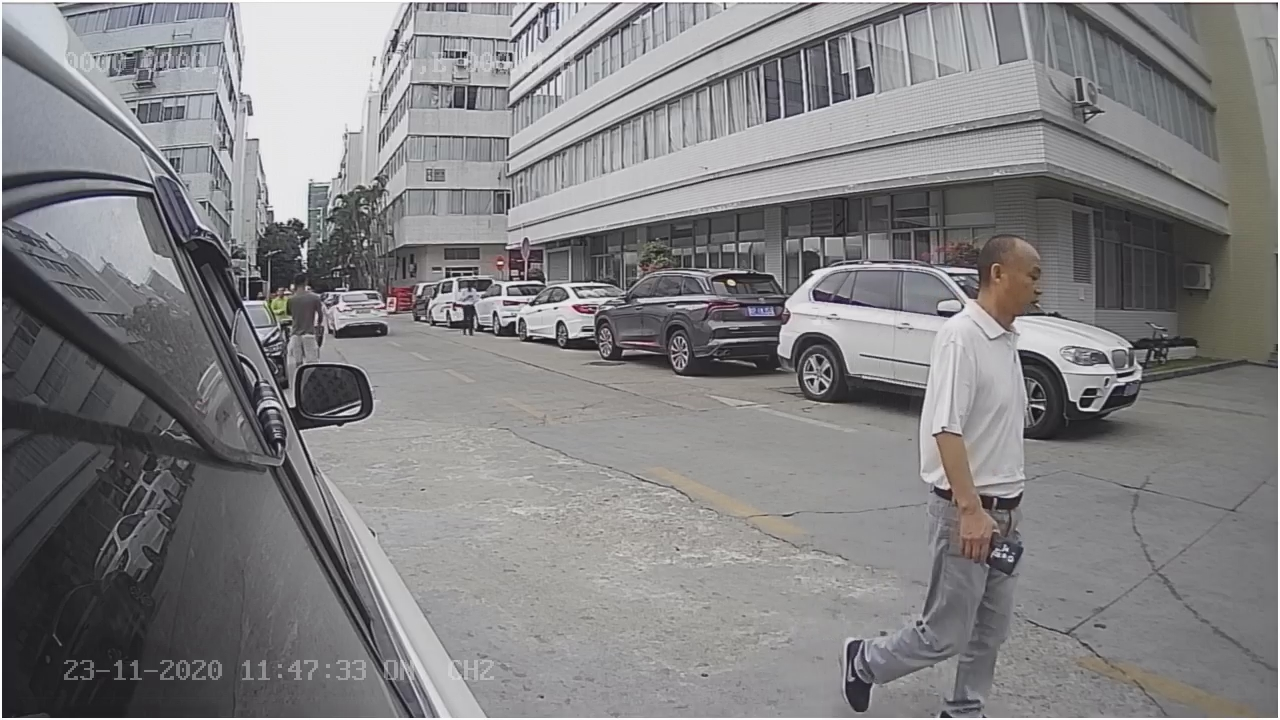person: (842, 221, 1049, 607)
